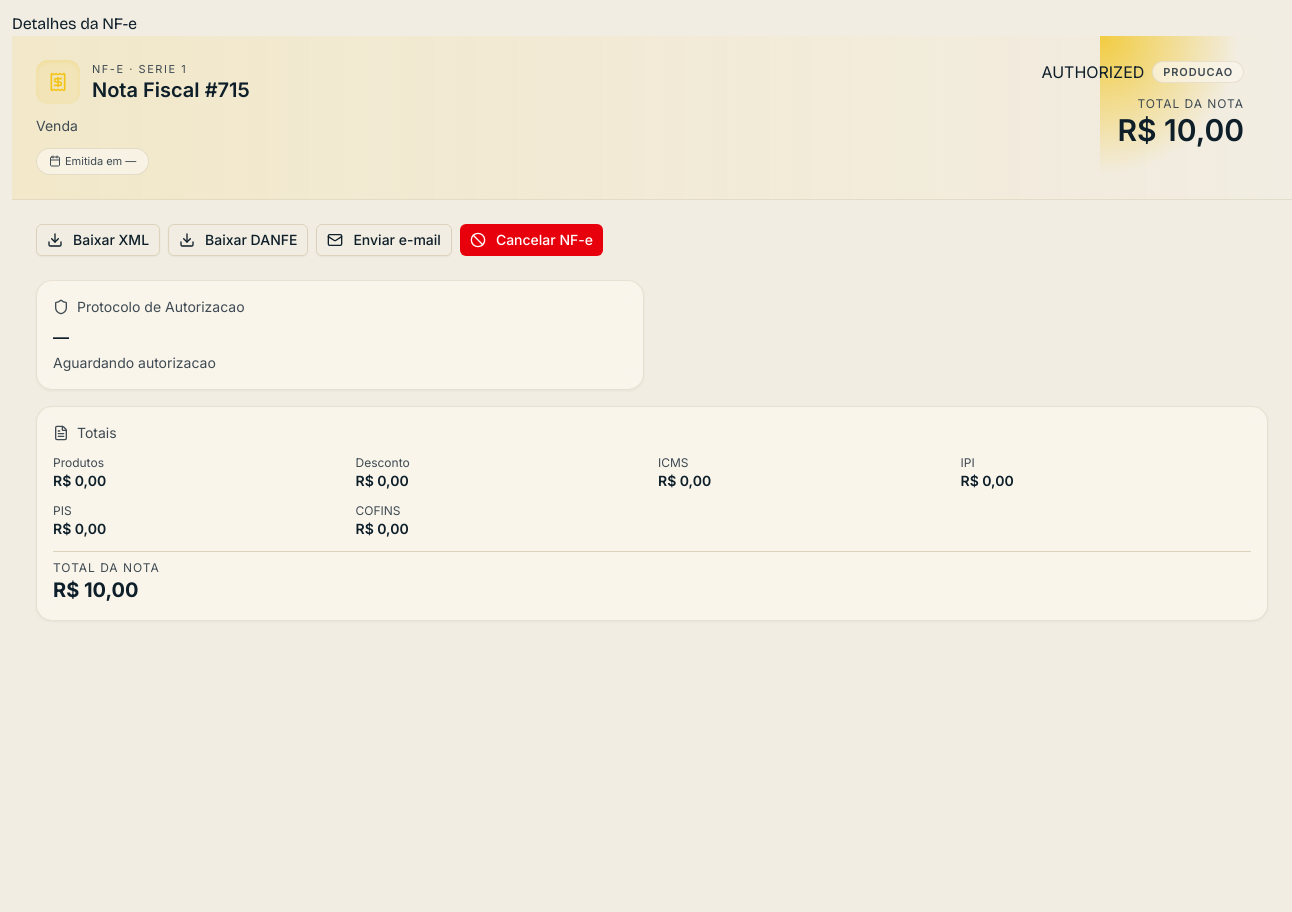
Test: ficha da nota — erro no download aparece › 404 "DANFE nao disponivel": o aviso tem a frase exata e nada é baixado
Click the button "Baixar DANFE" at (238, 240), box [168, 224, 308, 256]
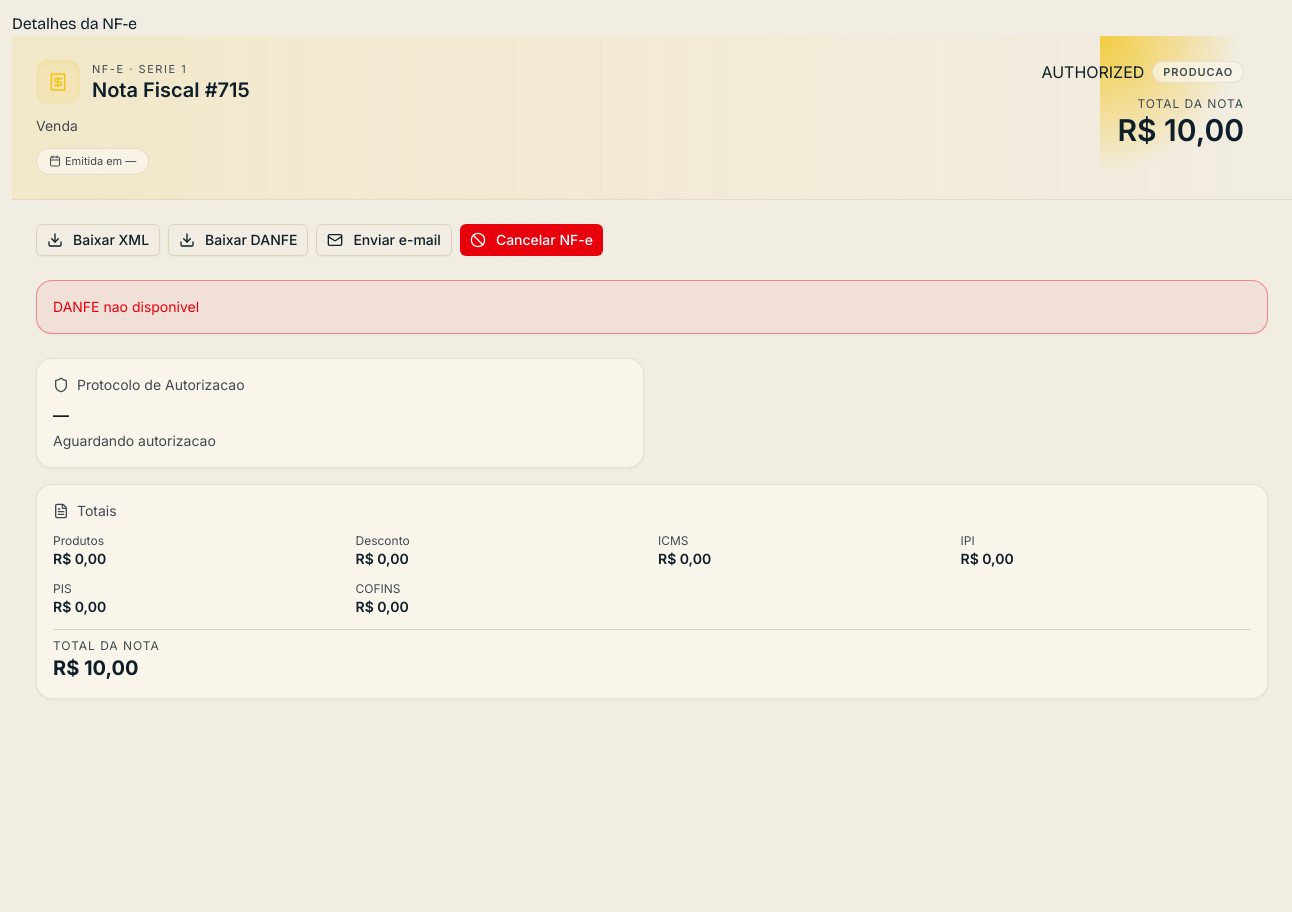
Result: the message "DANFE nao disponivel" is shown at [36, 280, 1268, 334]
Result: the number of messages is 1 at [36, 280, 1268, 334]
